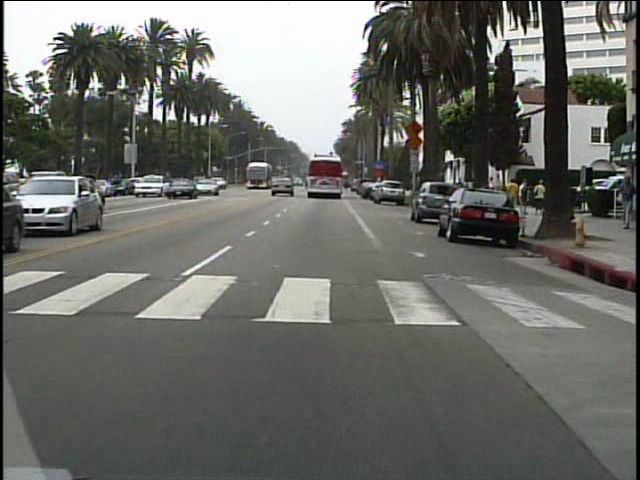person: (611, 171, 635, 235), (453, 176, 467, 206)
